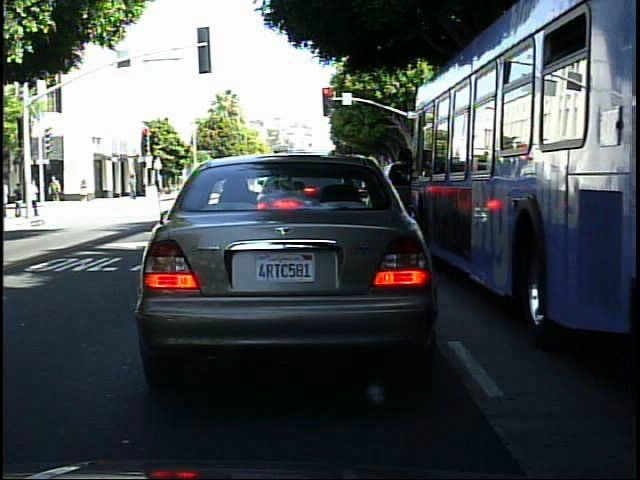person: (76, 173, 94, 209), (11, 179, 26, 221), (125, 170, 143, 204), (48, 171, 66, 204), (30, 173, 43, 216)
